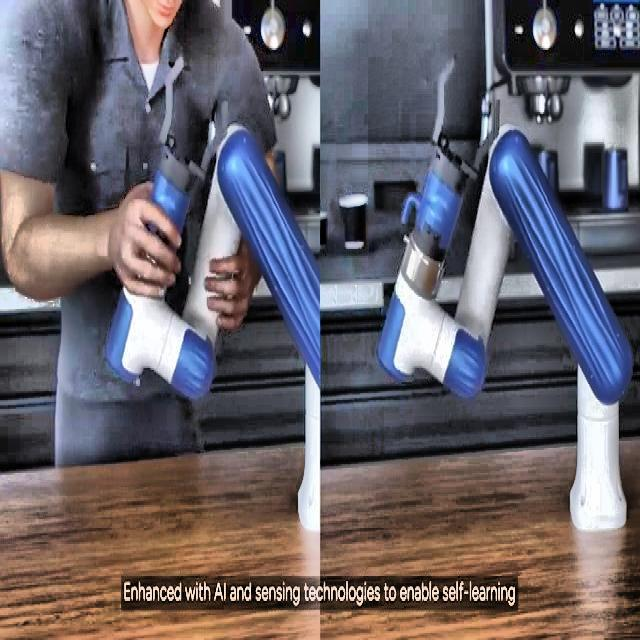human: (0, 0, 279, 468)
robot: (377, 1, 636, 532), (105, 123, 324, 553)
